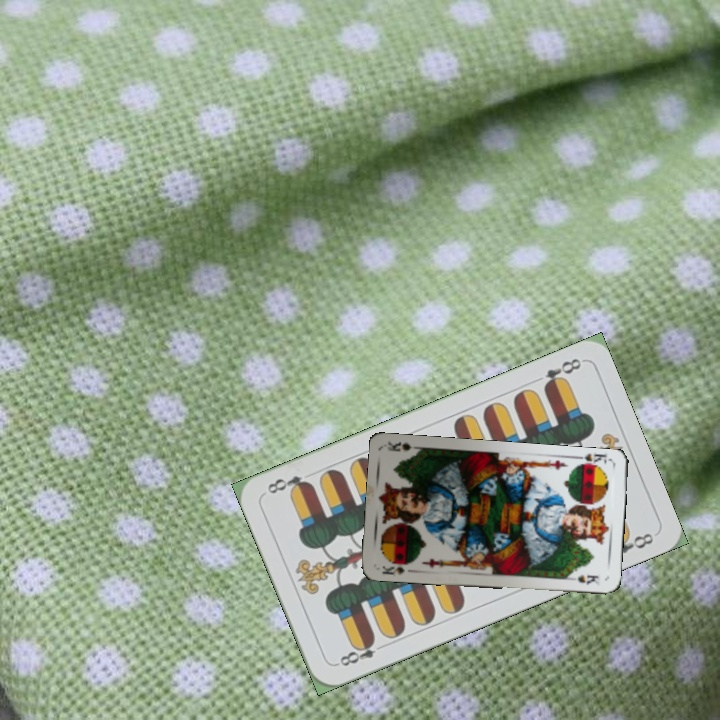E8: (332, 634, 389, 669), (539, 354, 584, 392)
SK: (572, 450, 609, 471), (378, 562, 407, 577)
